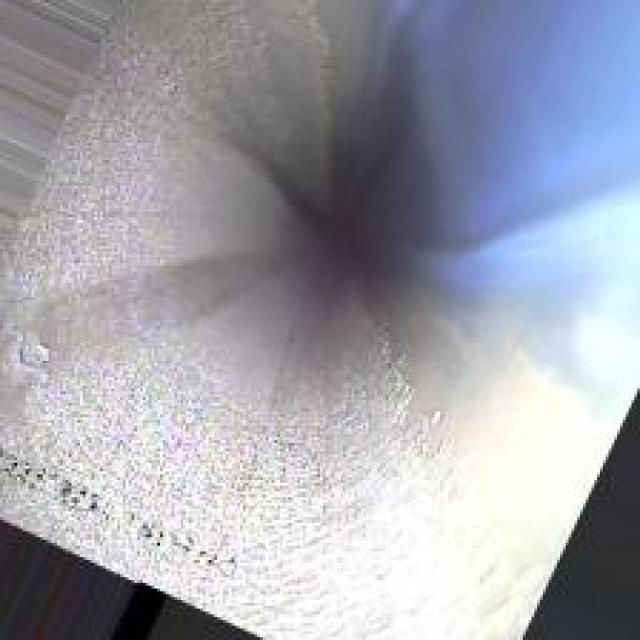ferrule: (3, 320, 57, 380)
